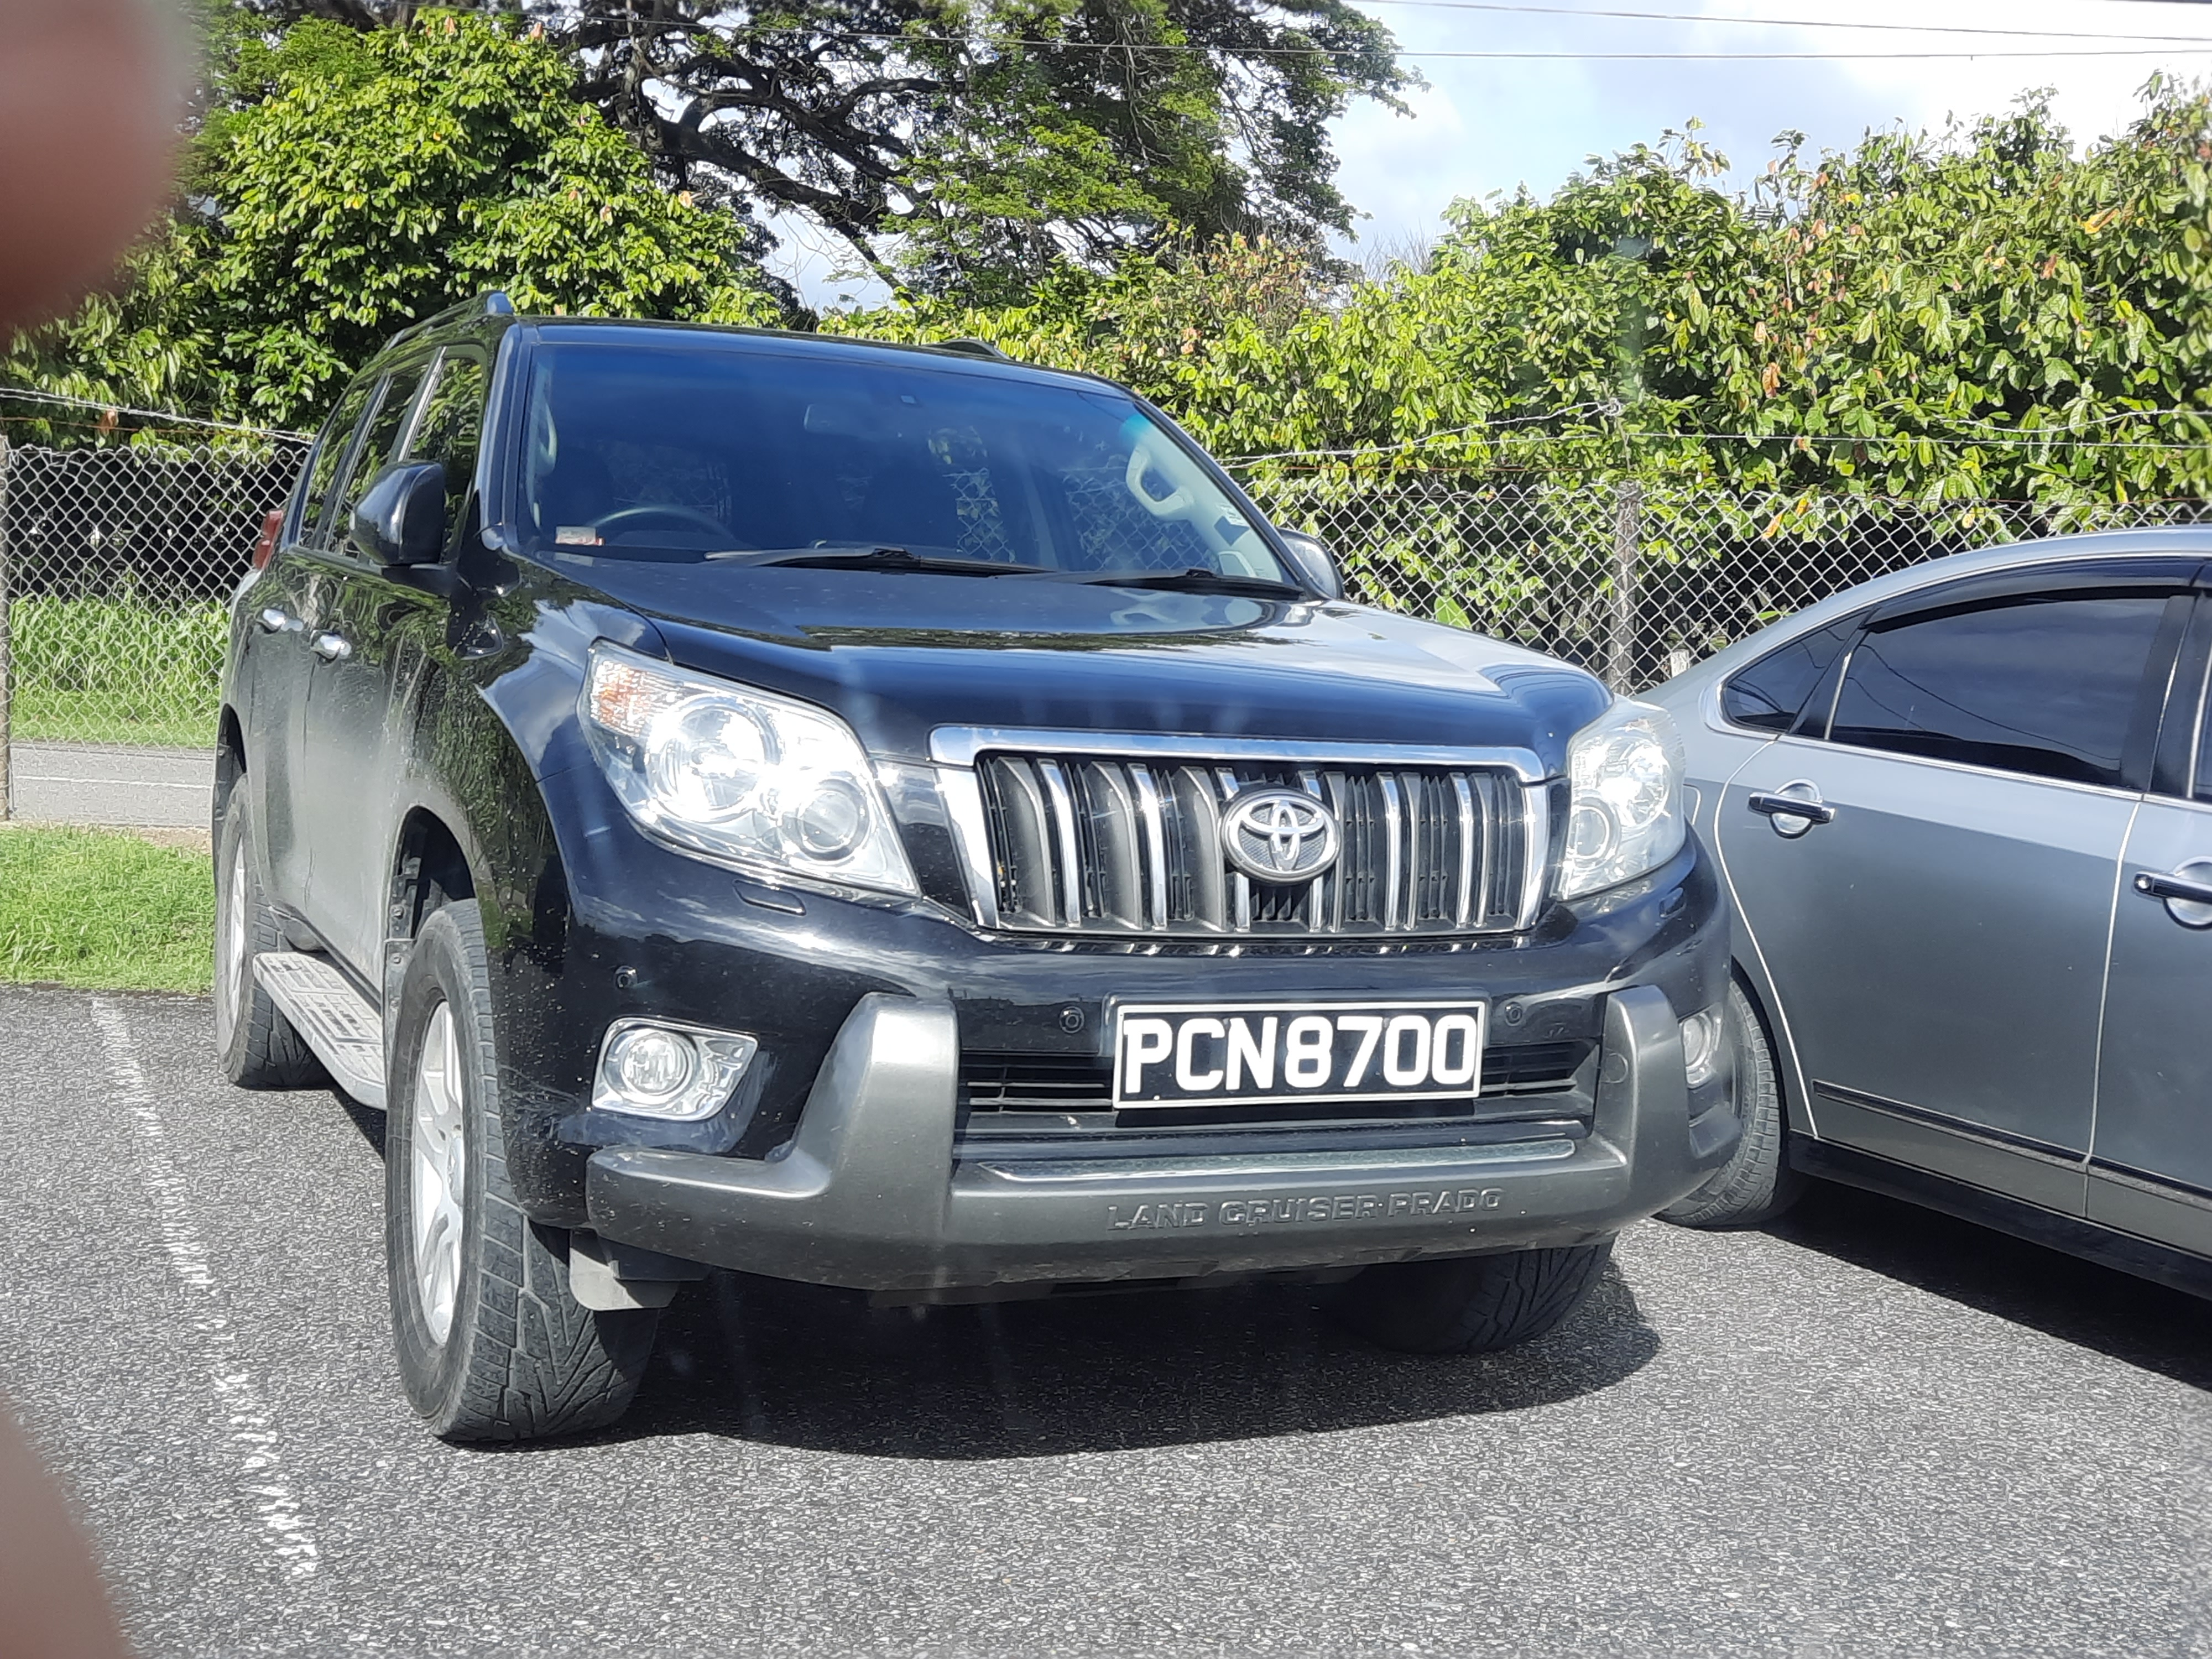License-Plate: (1111, 1001, 1486, 1105)
